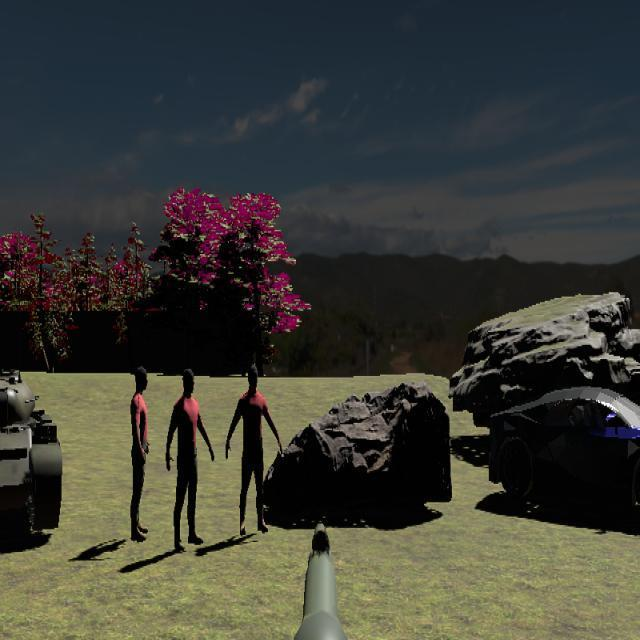Human: (225, 364, 284, 534), (165, 367, 216, 551), (129, 365, 151, 545)
Tank: (0, 364, 62, 542)
car: (486, 385, 640, 522)
